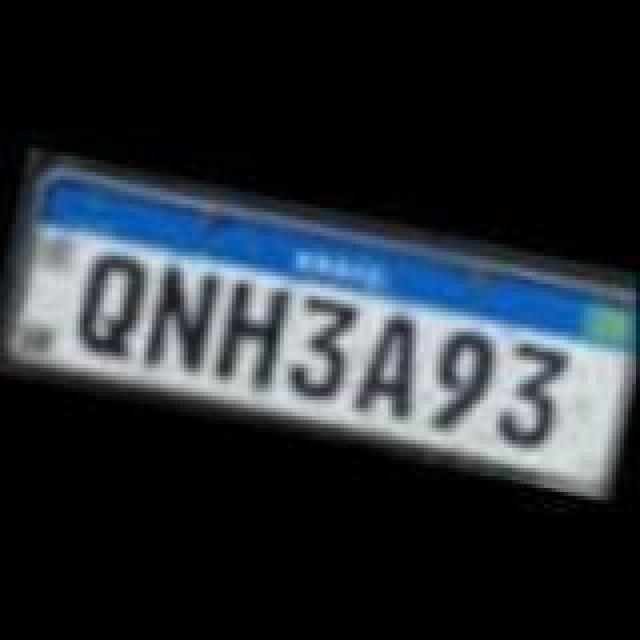3: (276, 288, 360, 408), (488, 336, 568, 452)
9: (424, 322, 492, 430)
A: (350, 304, 430, 420)
H: (206, 272, 294, 392)
N: (140, 256, 224, 376)
Q: (72, 250, 148, 362)
